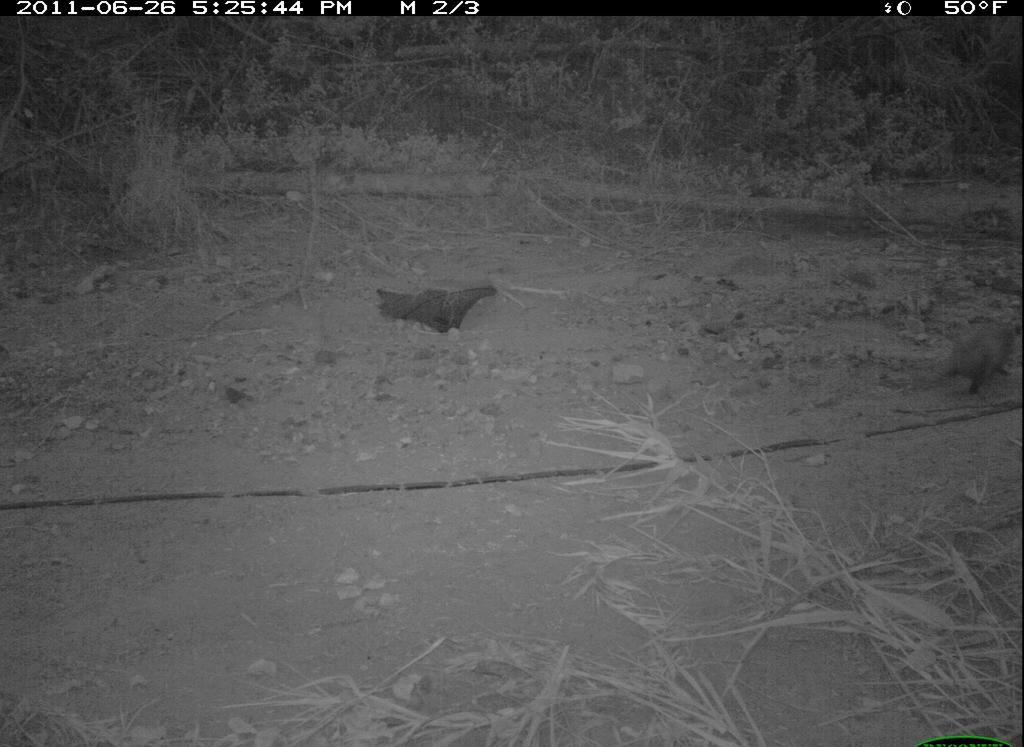opossum: (920, 315, 1016, 405)
